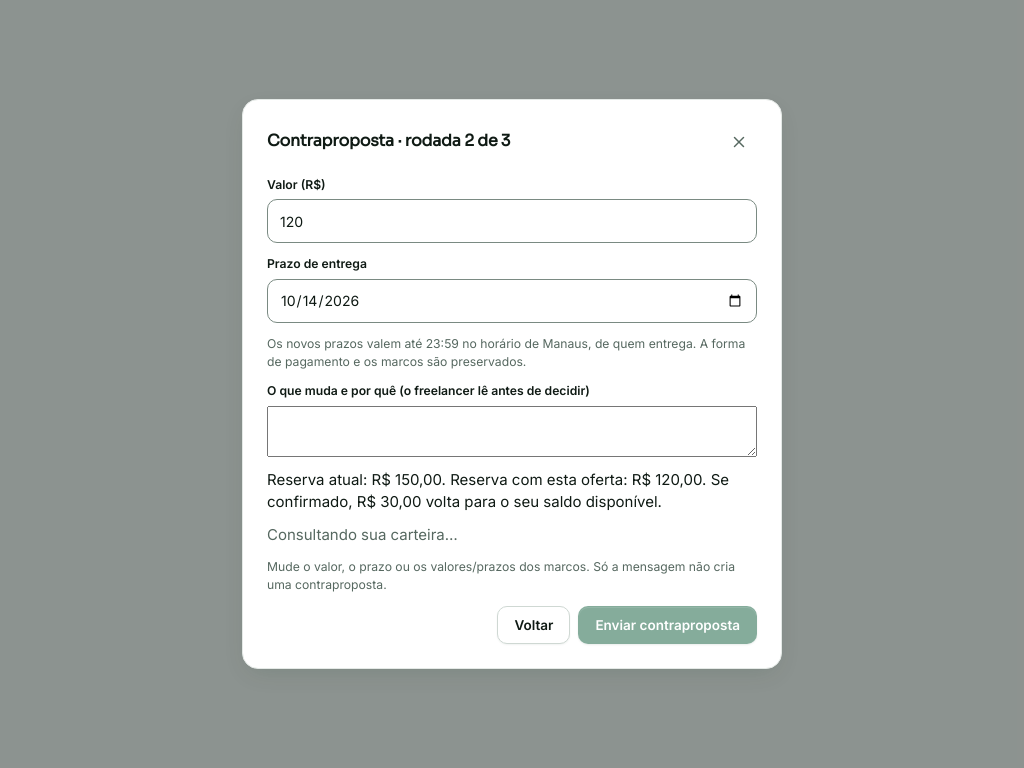
Test: CounterOfferModal › erro da API aparece sem sucesso, recarrega a oferta/reserva e não fecha o modal
Replace the text in the number field labelled "Valor (R$)" with "160" at [512, 221], box [267,199,757,243]
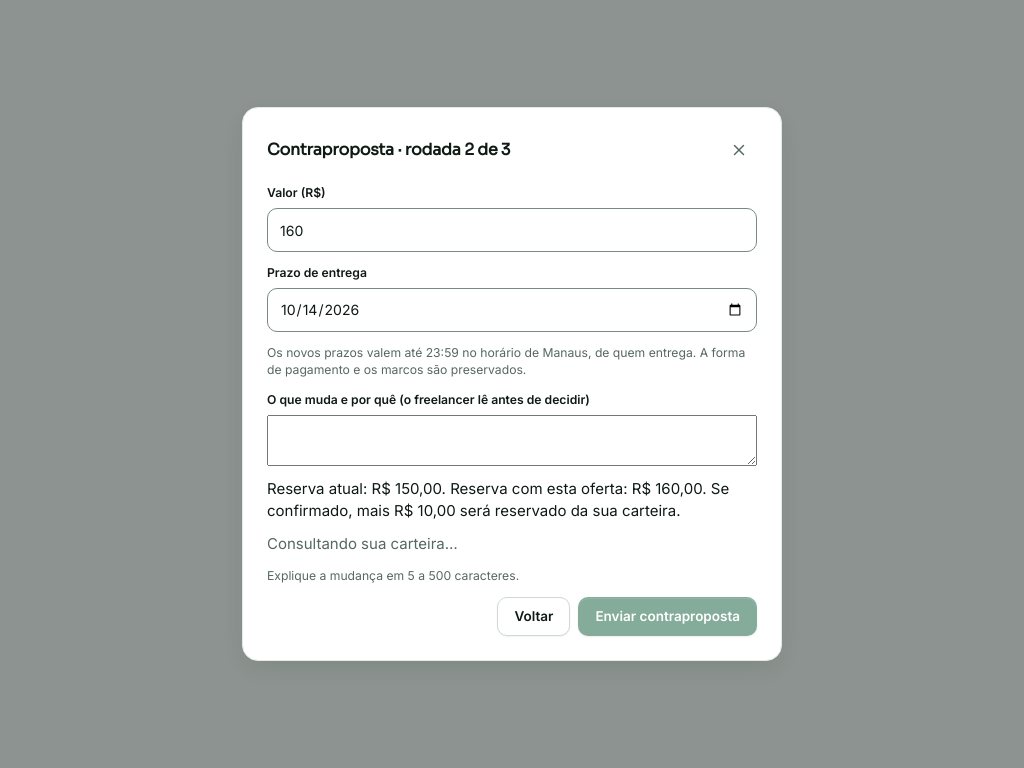
Type "Outro valor" into the text box labelled "O que muda e por quê (o freelancer lê antes de decidir)".
click(512, 440); type("Outro valor")  # box [267,415,757,466]
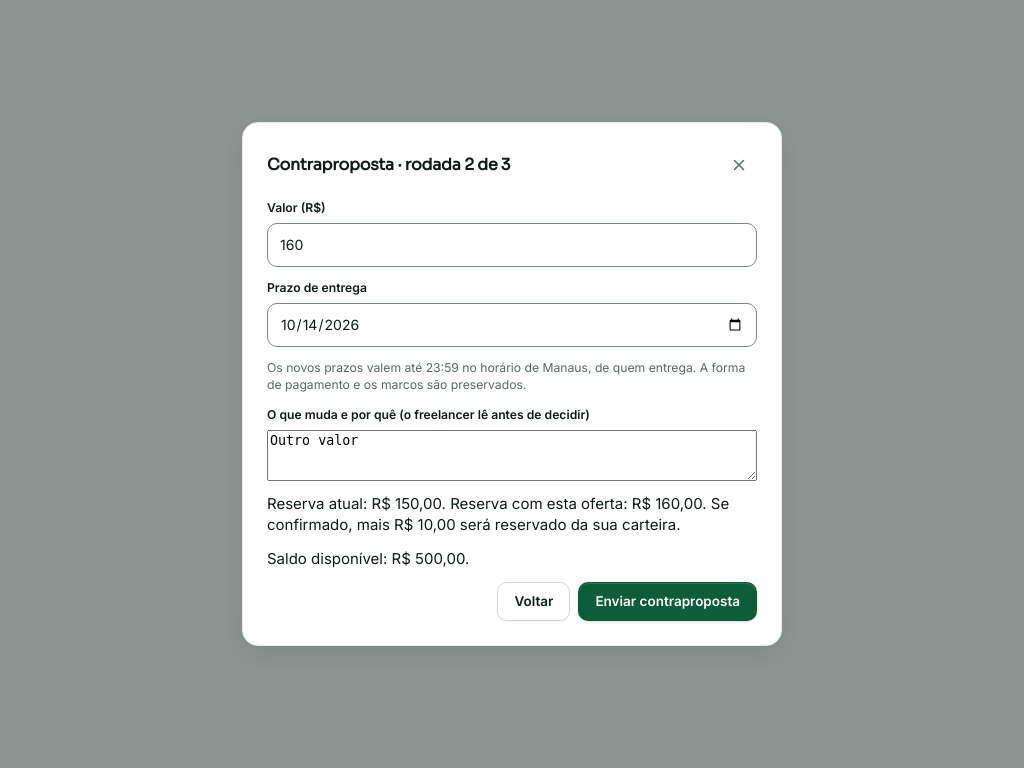
Result: the button "Enviar contraproposta" is enabled
Click the button "Enviar contraproposta".
click(668, 601)  # box [578,582,757,621]
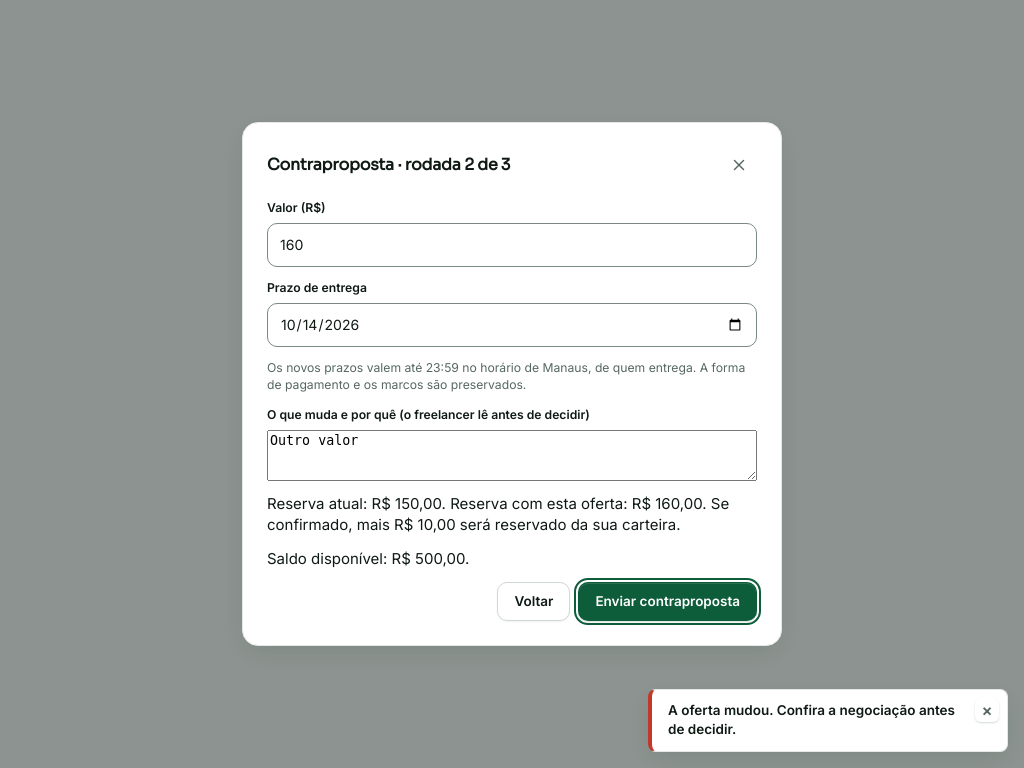
Result: the text "A oferta mudou. Confira a negociação antes de decidir." is shown at [668,701,967,740]
